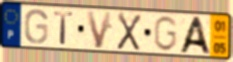A: (177, 16, 213, 56)
G: (23, 8, 50, 46), (152, 15, 179, 53)
T: (53, 10, 75, 46)
V: (85, 10, 114, 50)
X: (115, 11, 143, 52)
